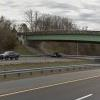Bridge: (20, 24, 98, 51)
